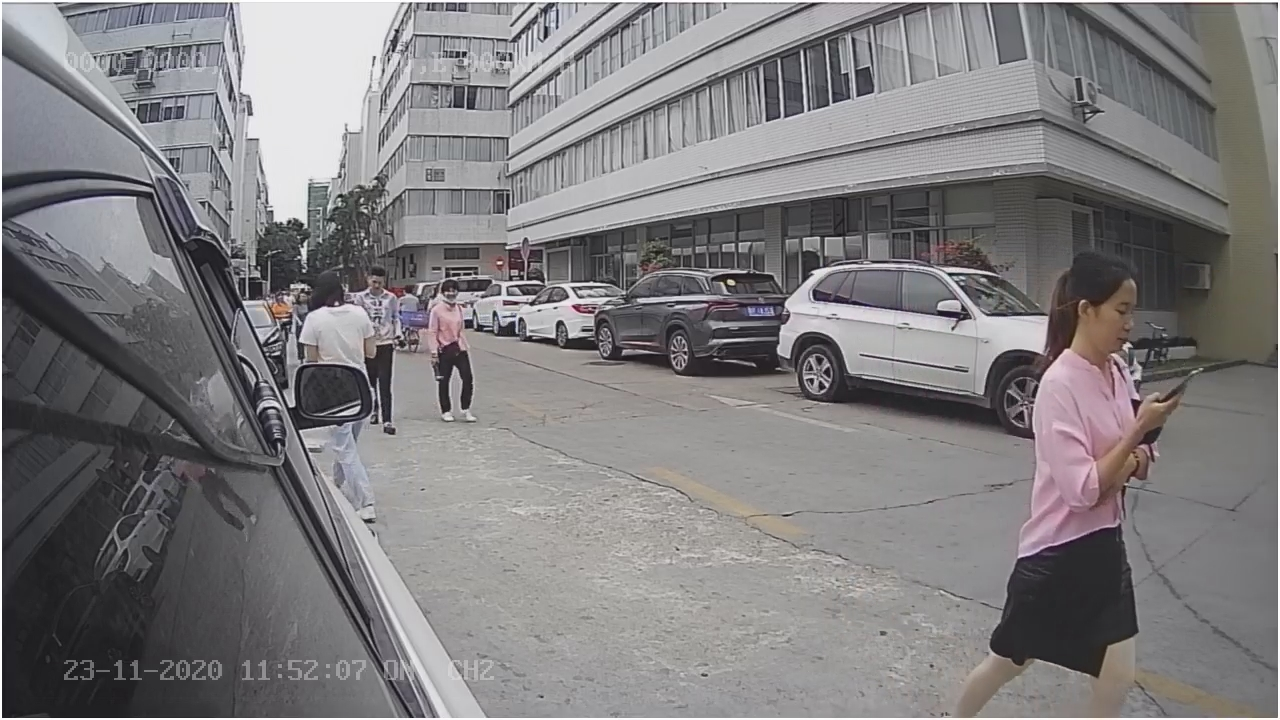person: (1026, 243, 1183, 509), (425, 274, 490, 430)
